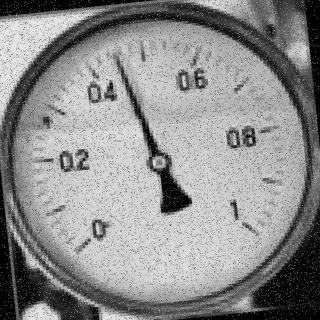gauge: (0, 0, 320, 320), (63, 220, 111, 261), (228, 210, 262, 242), (145, 151, 172, 175), (110, 49, 124, 66)
